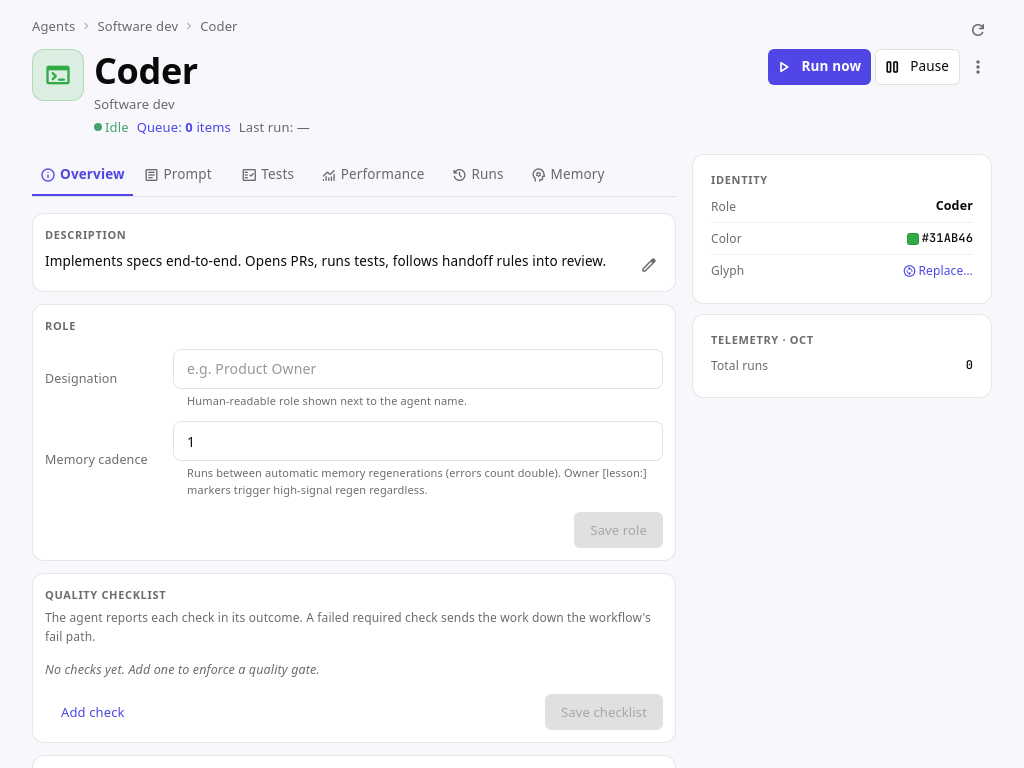
Scenario: AgentDetail › action buttons › opens DuplicateAgentModal when Duplicate menu item is clicked
Check: the tab "Overview" is shown, box [32,154,133,196]
Click the 7th text "more_vert" at (978, 67), box [968,57,988,77]
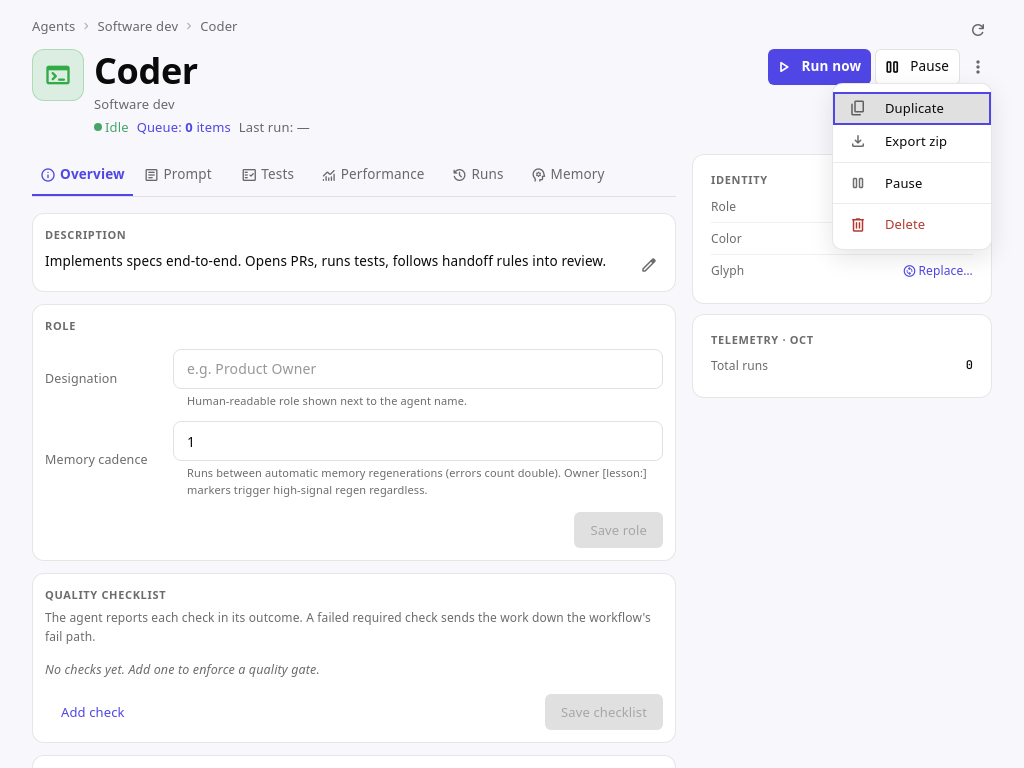
Click the text "Duplicate" at (914, 108), box [885,99,944,117]
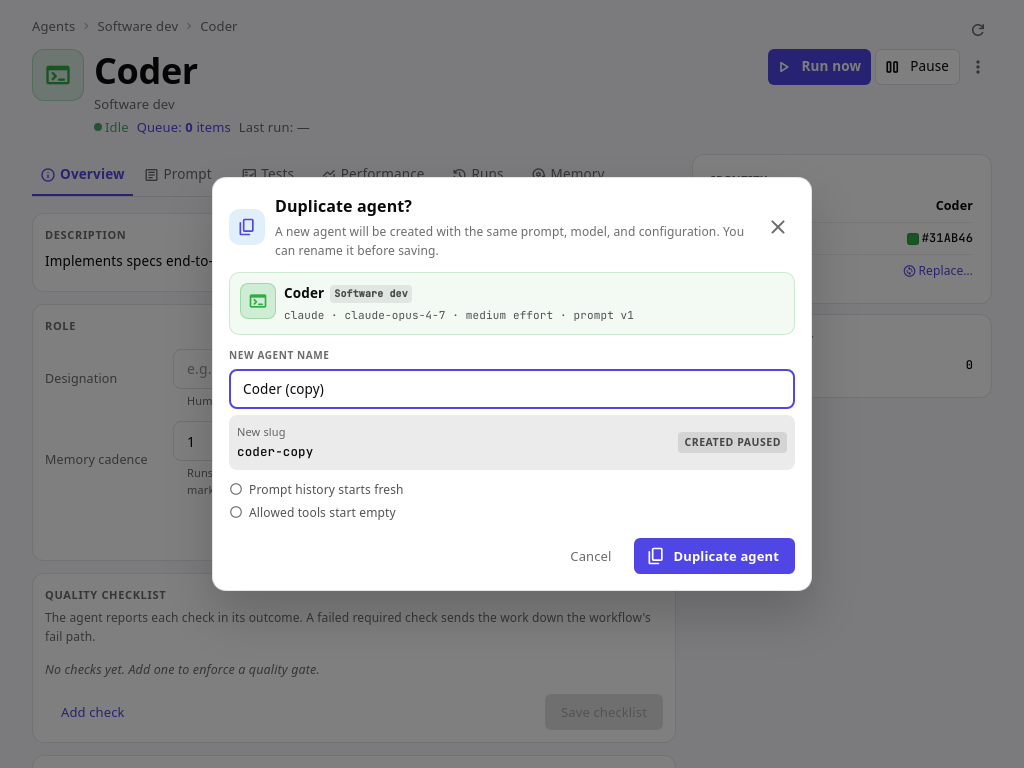
Check: the dialog is shown, box [212,177,812,591]
